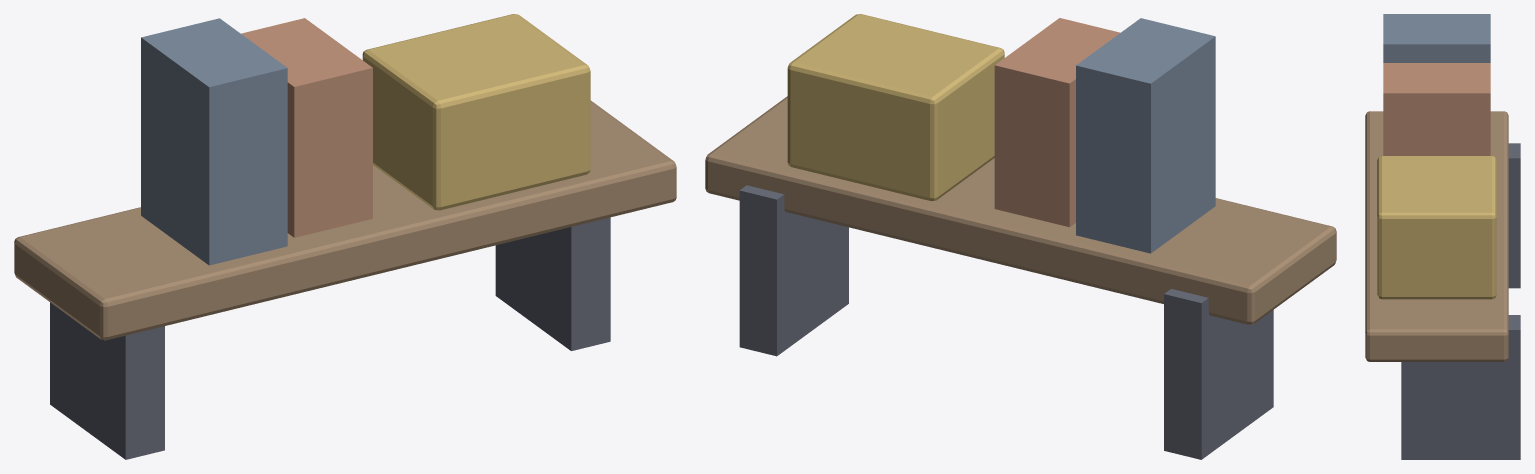
Rendered from office_prateleira_coz.glb.
3 renders of one model, left to right at view 1: azimuth 30°, elevation 25°; view 2: azimuth 150°, elevation 25°; view 3: azimuth 270°, elevation 25°, orthographic. The views are drawn at different scales.
Visible parts, largest first — view 1: OFFICE_PrateleiraCoz_Tabua, OFFICE_PrateleiraCoz_Caixa, OFFICE_PrateleiraCoz_Livro1, OFFICE_PrateleiraCoz_Livro2, OFFICE_PrateleiraCoz_SuporteE, OFFICE_PrateleiraCoz_SuporteD; view 2: OFFICE_PrateleiraCoz_Tabua, OFFICE_PrateleiraCoz_Caixa, OFFICE_PrateleiraCoz_Livro1, OFFICE_PrateleiraCoz_Livro2, OFFICE_PrateleiraCoz_SuporteE, OFFICE_PrateleiraCoz_SuporteD; view 3: OFFICE_PrateleiraCoz_Caixa, OFFICE_PrateleiraCoz_Tabua, OFFICE_PrateleiraCoz_SuporteD, OFFICE_PrateleiraCoz_Livro2, OFFICE_PrateleiraCoz_Livro1, OFFICE_PrateleiraCoz_SuporteE.
Boxes of the visible parts, box(x1,y1,x2,y2) form: OFFICE_PrateleiraCoz_Tabua: box(14, 100, 676, 340); OFFICE_PrateleiraCoz_Caixa: box(362, 14, 590, 210); OFFICE_PrateleiraCoz_Livro1: box(141, 18, 287, 265); OFFICE_PrateleiraCoz_Livro2: box(241, 18, 372, 237); OFFICE_PrateleiraCoz_SuporteE: box(50, 302, 164, 459); OFFICE_PrateleiraCoz_SuporteD: box(495, 217, 610, 350); OFFICE_PrateleiraCoz_Tabua: box(705, 96, 1336, 324); OFFICE_PrateleiraCoz_Caixa: box(787, 14, 1004, 201); OFFICE_PrateleiraCoz_Livro1: box(1076, 18, 1215, 253); OFFICE_PrateleiraCoz_Livro2: box(994, 18, 1120, 227); OFFICE_PrateleiraCoz_SuporteE: box(1164, 289, 1273, 459); OFFICE_PrateleiraCoz_SuporteD: box(739, 185, 848, 356); OFFICE_PrateleiraCoz_Caixa: box(1377, 156, 1496, 299); OFFICE_PrateleiraCoz_Tabua: box(1365, 111, 1508, 361); OFFICE_PrateleiraCoz_SuporteD: box(1401, 315, 1520, 459); OFFICE_PrateleiraCoz_Livro2: box(1383, 63, 1490, 155); OFFICE_PrateleiraCoz_Livro1: box(1383, 14, 1490, 62); OFFICE_PrateleiraCoz_SuporteE: box(1508, 143, 1520, 288).
Bounding box in the file's own units: 0.44 × 0.265 × 0.13.
